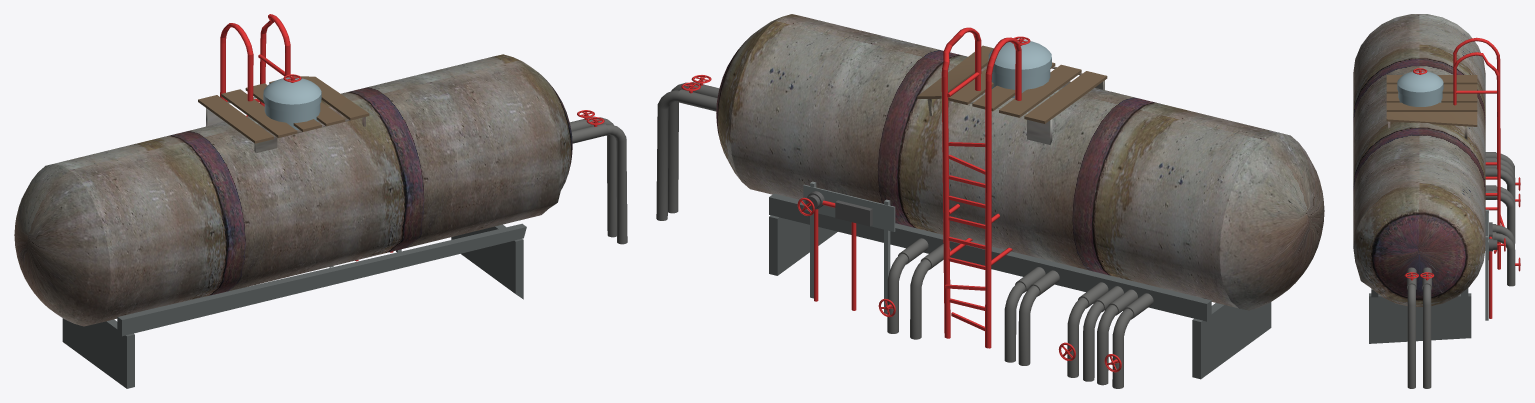
Rendered from lingjian_shuixiang.FBX.
3 renders of one model, left to right at view 1: azimuth 30°, elevation 25°; view 2: azimuth 150°, elevation 25°; view 3: azimuth 270°, elevation 25°, orthographic. The views are drawn at different scales.
Visible parts, largest first — view 1: Tank01; view 2: Tank01; view 3: Tank01.
Part boxes in pixels (left/top/right/bottom): Tank01: left=14, top=14, right=627, bottom=388; Tank01: left=656, top=14, right=1324, bottom=388; Tank01: left=1353, top=14, right=1520, bottom=388.
Bounding box in the file's own units: 123 × 54.9 × 37.65.
